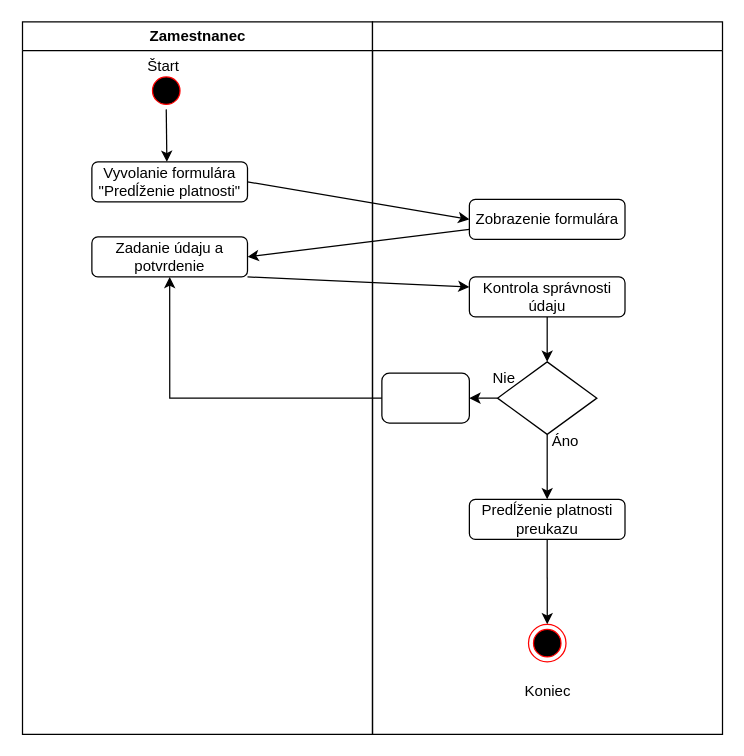
This 744x756 diagram has some shape labels left out. The box of each missing label's shape, as (x1, y1, x2, y2) in pixels:
Systém: (371, 21, 722, 734)
Sú údaje správne?: (496, 361, 597, 434)
Zobrazenie chybového hlásenia: (381, 372, 469, 423)
